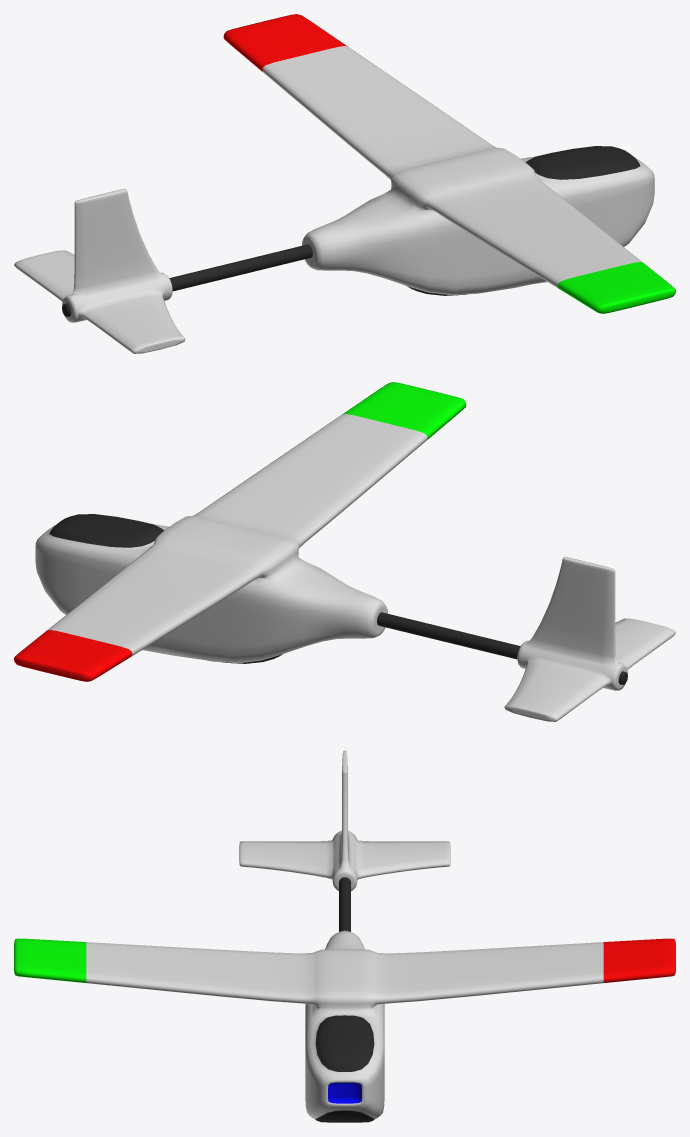
The model's file is SimpleFixedWing1600.fbx.
The picture shows the model from 3 angles, top to bottom: view 1: azimuth 30°, elevation 25°; view 2: azimuth 150°, elevation 25°; view 3: azimuth 270°, elevation 25°; orthographic projection. The views are drawn at different scales.
Parts seen in each view (by area): view 1: SimpleFixedWing1600; view 2: SimpleFixedWing1600; view 3: SimpleFixedWing1600.
Boxes of the visible parts, box(x1,y1,x2,y2) form: SimpleFixedWing1600: box(14, 14, 675, 353); SimpleFixedWing1600: box(14, 382, 675, 721); SimpleFixedWing1600: box(14, 750, 675, 1122).
Bounding box in the file's own units: 142 × 42.38 × 160.
